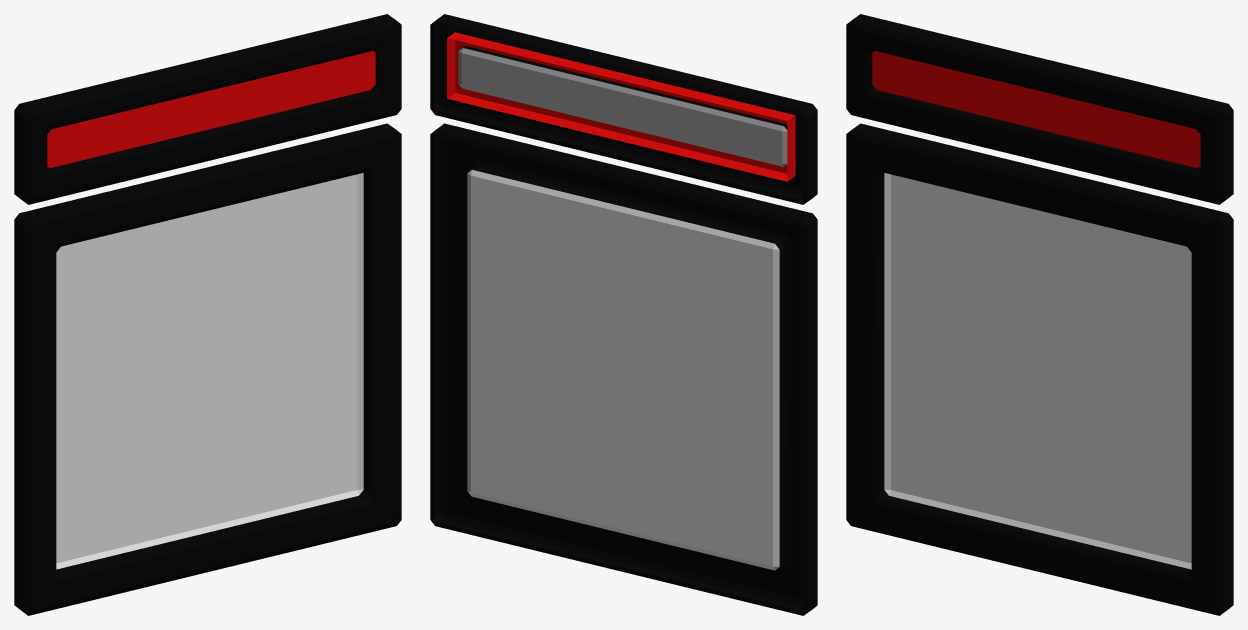
The model's file is levelbar.fbx.
The picture shows the model from 3 angles, left to right: view 1: azimuth 30°, elevation 25°; view 2: azimuth 150°, elevation 25°; view 3: azimuth 330°, elevation 25°; orthographic projection.
Visible parts, largest first — view 1: tilebackground, tileborder, barborder, bar; view 2: tilebackground, tileborder, barborder, barbackground, bar; view 3: tilebackground, tileborder, barborder, bar.
Part boxes in pixels (bbox=[...]): tilebackground: bbox=[56, 173, 363, 569]; tileborder: bbox=[14, 123, 401, 615]; barborder: bbox=[14, 14, 401, 204]; bar: bbox=[47, 51, 375, 167]; tilebackground: bbox=[467, 170, 779, 570]; tileborder: bbox=[430, 123, 817, 615]; barborder: bbox=[430, 14, 817, 204]; barbackground: bbox=[458, 48, 787, 166]; bar: bbox=[447, 32, 795, 181]; tilebackground: bbox=[884, 173, 1191, 569]; tileborder: bbox=[846, 123, 1233, 615]; barborder: bbox=[846, 14, 1233, 204]; bar: bbox=[872, 51, 1200, 168].
Bounding box in the file's own units: 0.5724 × 0.7307 × 0.0313.
